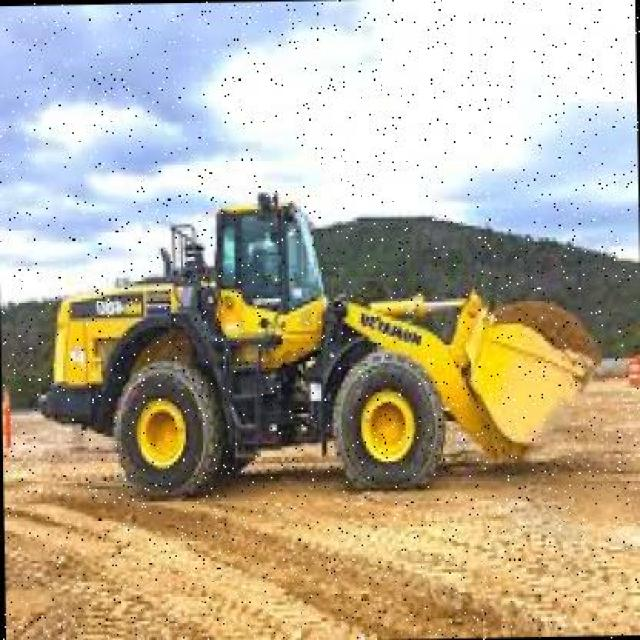buldozerpayloadergrader: (34, 179, 604, 498)
